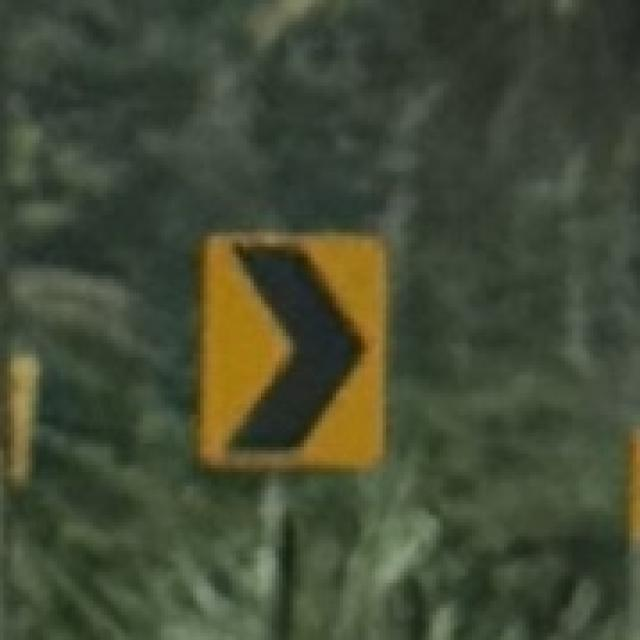TURN_RIGHT: (194, 228, 392, 477)
